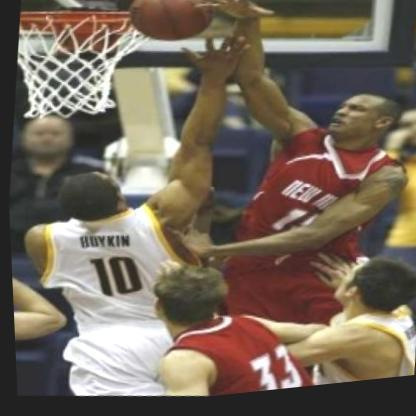basketball: (122, 0, 220, 50)
